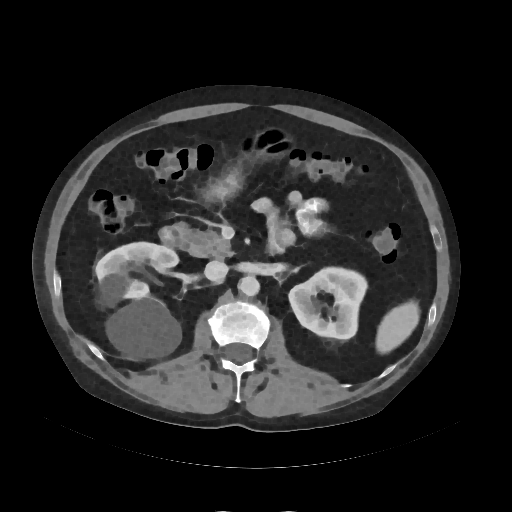Lesion: (104, 294, 186, 366)
